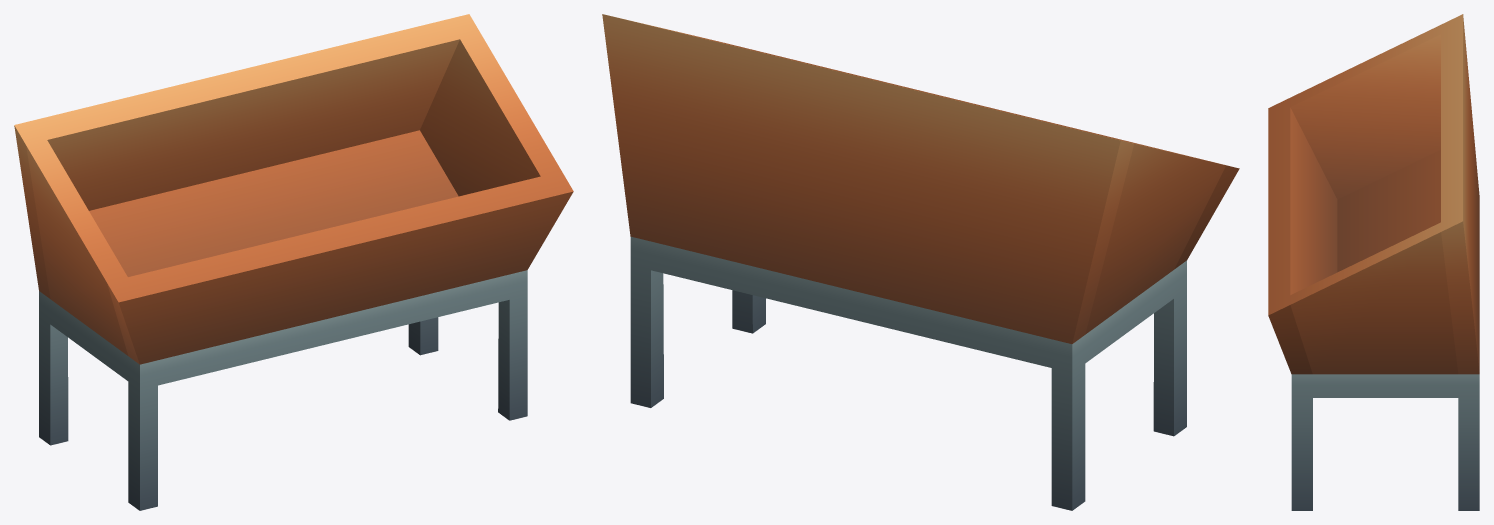
File: FoodContainer.fbx
The picture shows the model from 3 angles, left to right: view 1: azimuth 30°, elevation 25°; view 2: azimuth 150°, elevation 25°; view 3: azimuth 270°, elevation 25°; orthographic projection. The views are drawn at different scales.
Parts seen in each view (by area): view 1: FoodContainer.007; view 2: FoodContainer.007; view 3: FoodContainer.007.
Part boxes in pixels (x1,y1,x2,y2): FoodContainer.007: (14,14,573,510); FoodContainer.007: (602,14,1239,510); FoodContainer.007: (1268,14,1479,510).
Bounding box in the file's own units: 0.7346 × 0.5042 × 0.3168.
